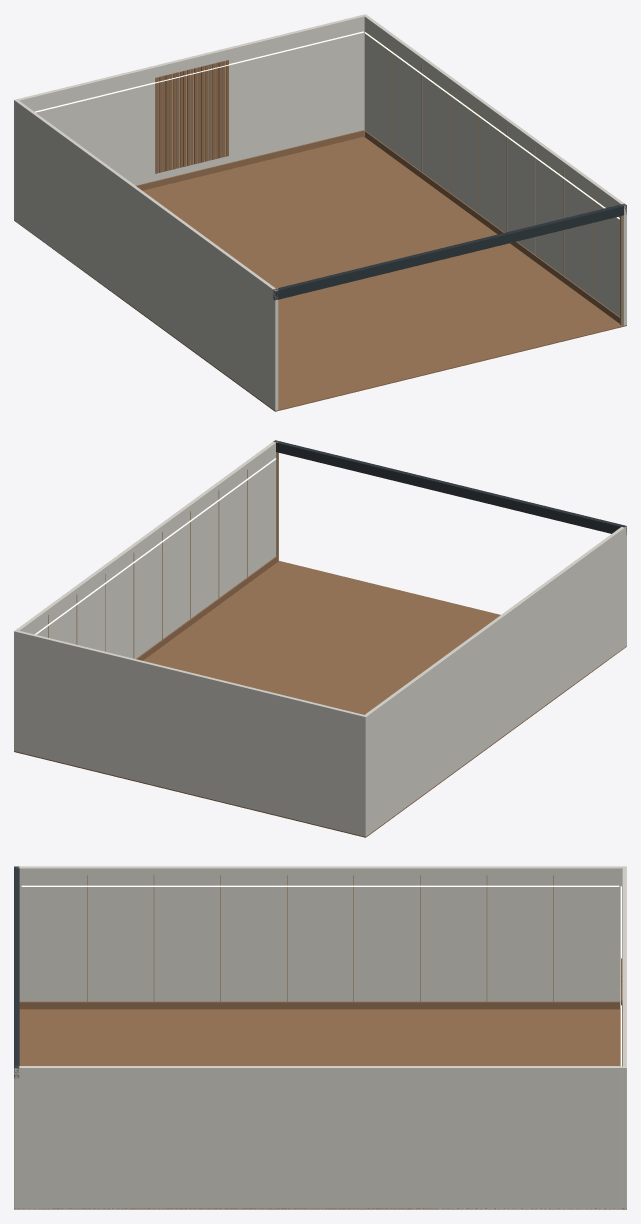
The model's file is booth-28x36.glb.
The picture shows the model from 3 angles, top to bottom: view 1: azimuth 30°, elevation 25°; view 2: azimuth 150°, elevation 25°; view 3: azimuth 270°, elevation 25°; orthographic projection. The views are drawn at different scales.
Parts seen in each view (by area): view 1: inset_oak_floor, mesh_side_-1, mesh_side_1, mesh_rear, mesh_branding, oak_side_plinth_1, rear_oak_plinth, rear_light_wash, warm_side_wash_1; view 2: mesh_rear, mesh_side_-1, inset_oak_floor, mesh_side_1, mesh_branding, oak_side_plinth_1, warm_side_wash_1; view 3: mesh_side_1, mesh_side_-1, inset_oak_floor, oak_side_plinth_-1, mesh_rear, mesh_branding, warm_side_wash_-1.
Part boxes in pixels (x1,y1,x2,y2): inset_oak_floor: (14,136,626,411); mesh_side_-1: (16,100,278,410); mesh_side_1: (364,15,626,325); mesh_rear: (14,14,367,220); mesh_branding: (273,203,626,300); oak_side_plinth_1: (364,130,619,323); rear_oak_plinth: (136,130,364,190); rear_light_wash: (35,31,363,112); warm_side_wash_1: (364,32,619,219); mesh_rear: (14,630,367,836); mesh_side_-1: (365,526,626,834); inset_oak_floor: (14,561,626,837); mesh_side_1: (16,441,276,658); mesh_branding: (273,440,626,534); oak_side_plinth_1: (136,556,277,660); warm_side_wash_1: (35,458,276,634); mesh_side_1: (14,1066,622,1209); mesh_side_-1: (14,866,622,1008); inset_oak_floor: (14,1008,626,1209); oak_side_plinth_-1: (19,1001,619,1009); mesh_rear: (622,866,626,1208); mesh_branding: (14,866,19,1078); warm_side_wash_-1: (21,885,619,886).
Bounding box in the file's own units: 8.53 × 2.8 × 10.97.
